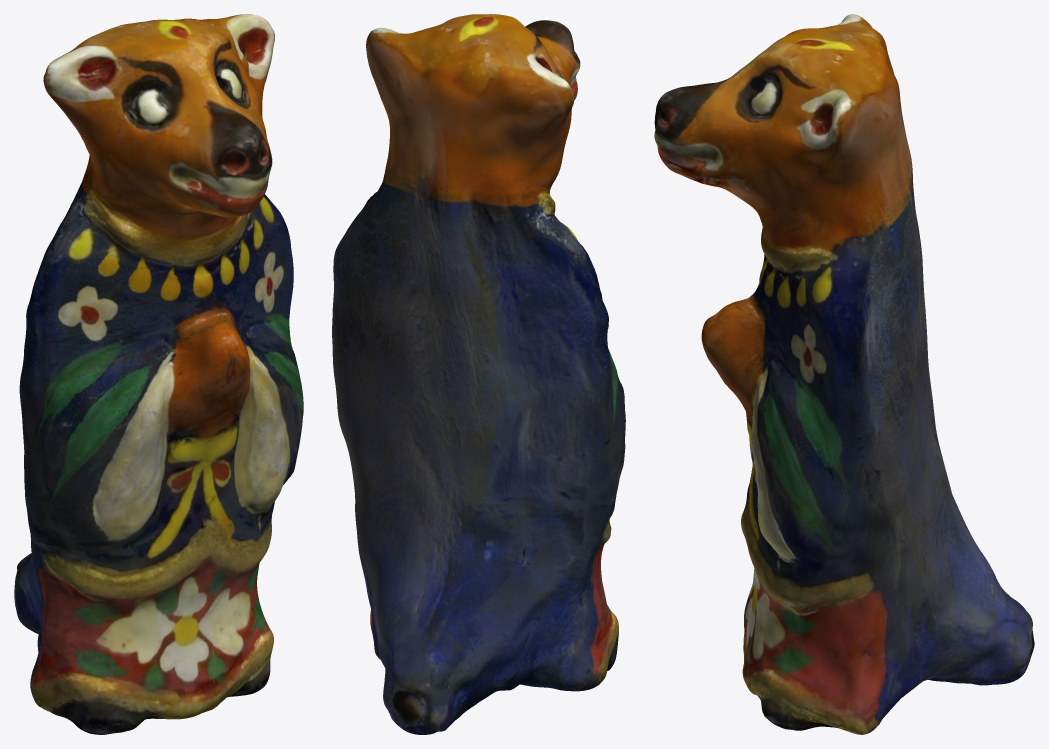
3 views of the same model, side by side, from view 1: azimuth 30°, elevation 25°; view 2: azimuth 150°, elevation 25°; view 3: azimuth 270°, elevation 25° (orthographic). The views are drawn at different scales.
Bounding box in the file's own units: 0.1703 × 0.3943 × 0.2068.
1 material, 1 textured.
